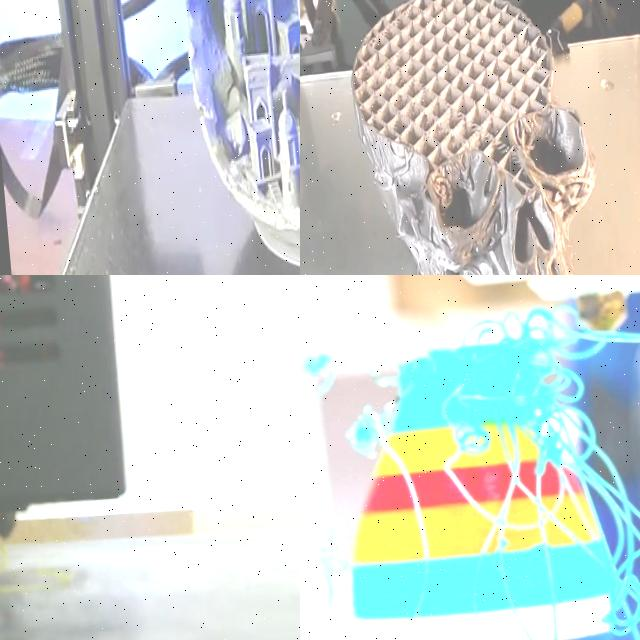spaghetti: (380, 294, 640, 640)
